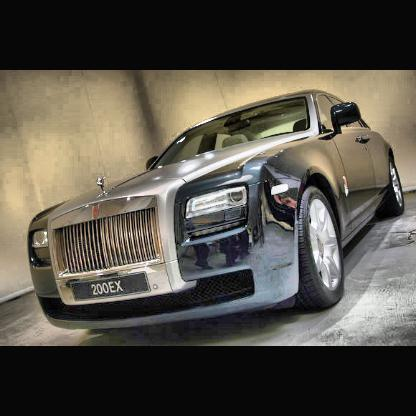Rolls-Royce Ghost Sedan 2012: (30, 91, 407, 334)
